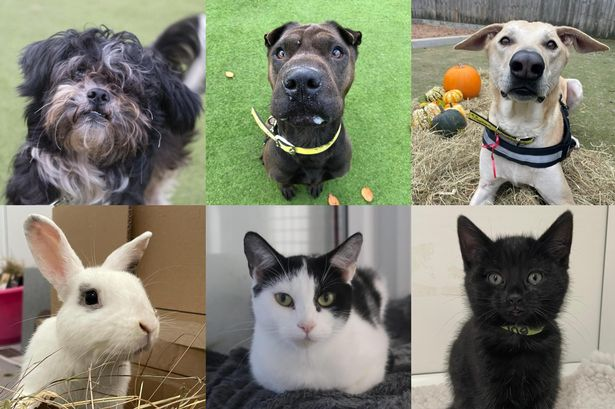cat: (238, 229, 393, 393), (448, 212, 567, 405)
dog: (18, 27, 185, 190), (447, 13, 582, 191), (247, 18, 360, 191)
rabbit: (18, 213, 157, 398)
